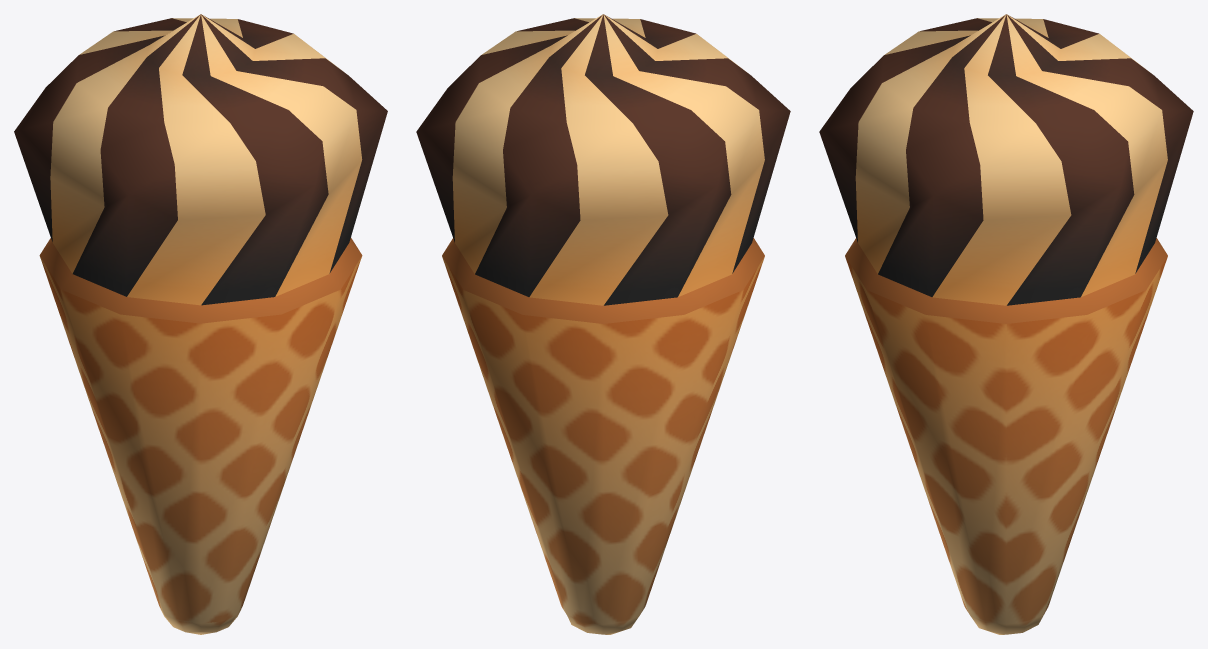
The model's file is m_IceCream17.fbx.
3 renders of one model, left to right at view 1: azimuth 30°, elevation 25°; view 2: azimuth 150°, elevation 25°; view 3: azimuth 270°, elevation 25°, orthographic.
Visible parts, largest first — view 1: m_IceCream17; view 2: m_IceCream17; view 3: m_IceCream17.
Part boxes in pixels (box(x1,y1,x2,y2)): m_IceCream17: box(14, 14, 387, 634); m_IceCream17: box(416, 14, 790, 634); m_IceCream17: box(819, 14, 1193, 634).
Bounding box in the file's own units: 9.62 × 18.75 × 10.33.
